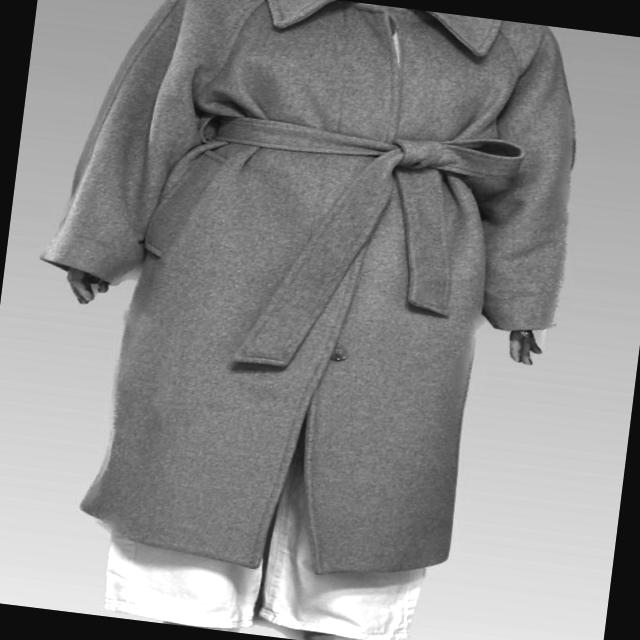coat: (5, 0, 595, 600)
cottonpants: (101, 401, 433, 640)
